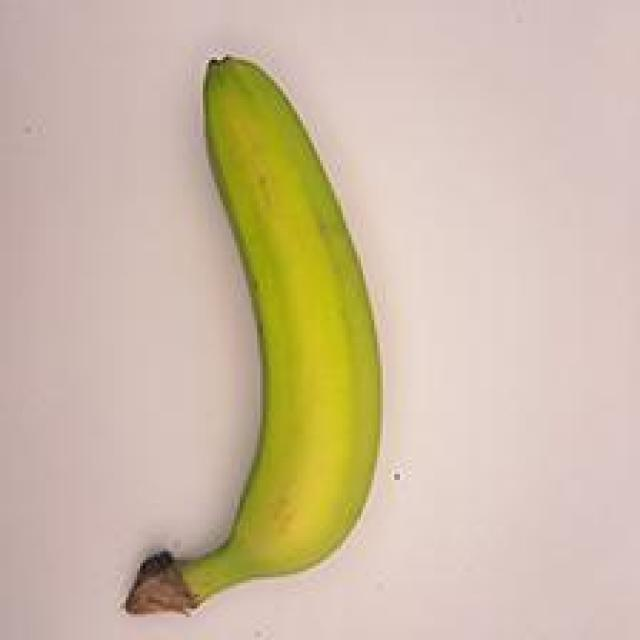unripe: (100, 27, 403, 640)
